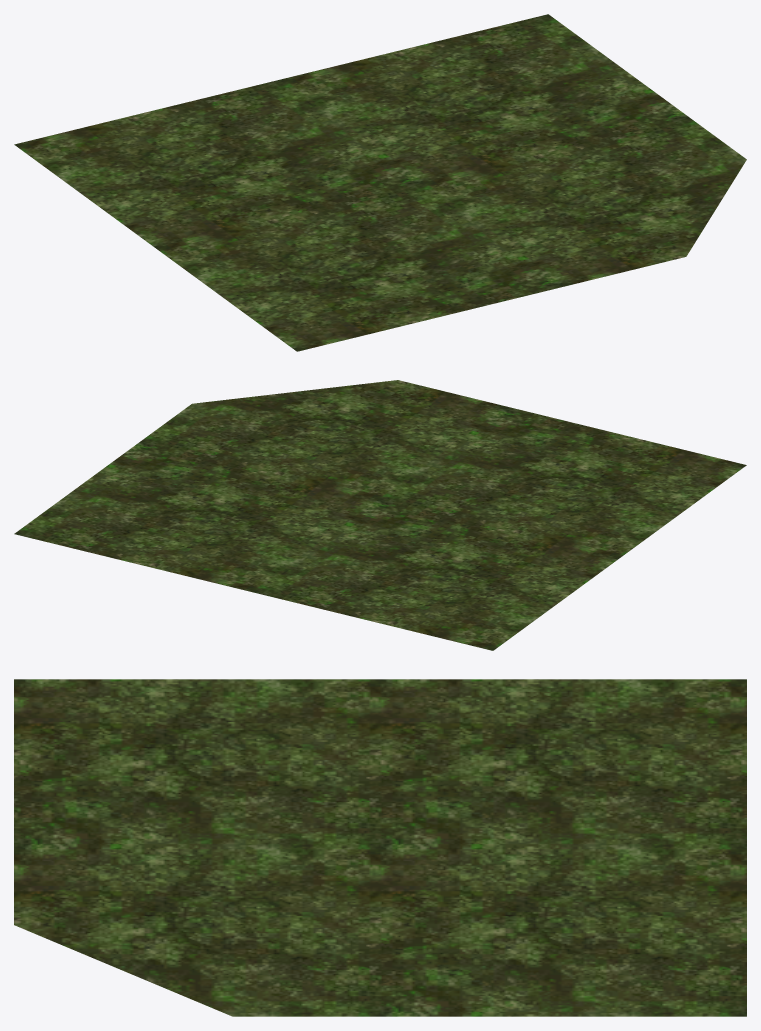
File: OVERHILL_A_01_PLANE23.fbx
3 views of the same model, one above another, from view 1: azimuth 30°, elevation 25°; view 2: azimuth 150°, elevation 25°; view 3: azimuth 270°, elevation 25° (orthographic). The views are drawn at different scales.
Visible parts, largest first — view 1: OVERHILL_A_01_PLANE23; view 2: OVERHILL_A_01_PLANE23; view 3: OVERHILL_A_01_PLANE23.
Boxes of the visible parts, bbox=[...] form: OVERHILL_A_01_PLANE23: bbox=[14, 14, 746, 351]; OVERHILL_A_01_PLANE23: bbox=[14, 380, 746, 650]; OVERHILL_A_01_PLANE23: bbox=[14, 679, 746, 1016].
Bounding box in the file's own units: 72967 × 0.0231 × 66957.
Materials: 1 (1 with a texture image).
